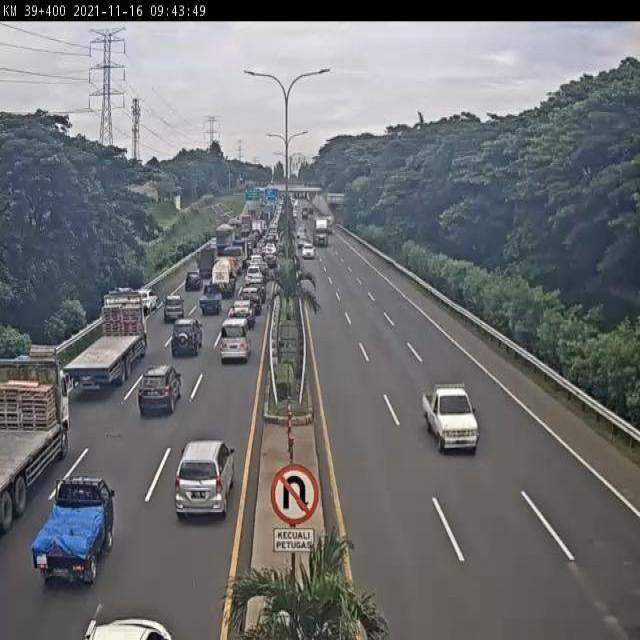car: (33, 476, 116, 589), (174, 441, 236, 524), (422, 384, 480, 455), (136, 368, 181, 420), (89, 616, 173, 640), (218, 320, 253, 371), (170, 320, 201, 360), (200, 280, 224, 313), (230, 300, 254, 333), (164, 297, 188, 324), (240, 287, 262, 313), (248, 277, 268, 299), (139, 287, 156, 309), (185, 272, 202, 293), (246, 265, 264, 284), (248, 254, 264, 266), (302, 242, 313, 255)
small truck: (195, 250, 216, 278), (225, 246, 244, 274)
truck-l-: (0, 356, 71, 531), (62, 289, 148, 387), (312, 216, 328, 245)
truck-m-: (212, 258, 235, 298), (214, 224, 234, 255)
